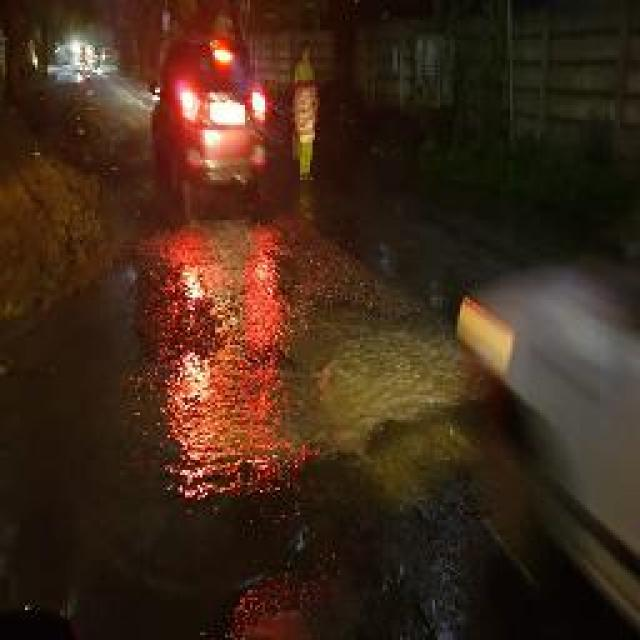stagnation: (0, 235, 311, 639)
